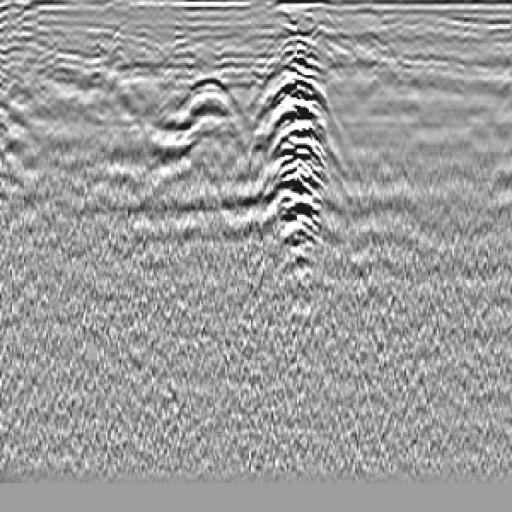metalic: (260, 28, 341, 287)
nonmetalic: (161, 75, 259, 164)
